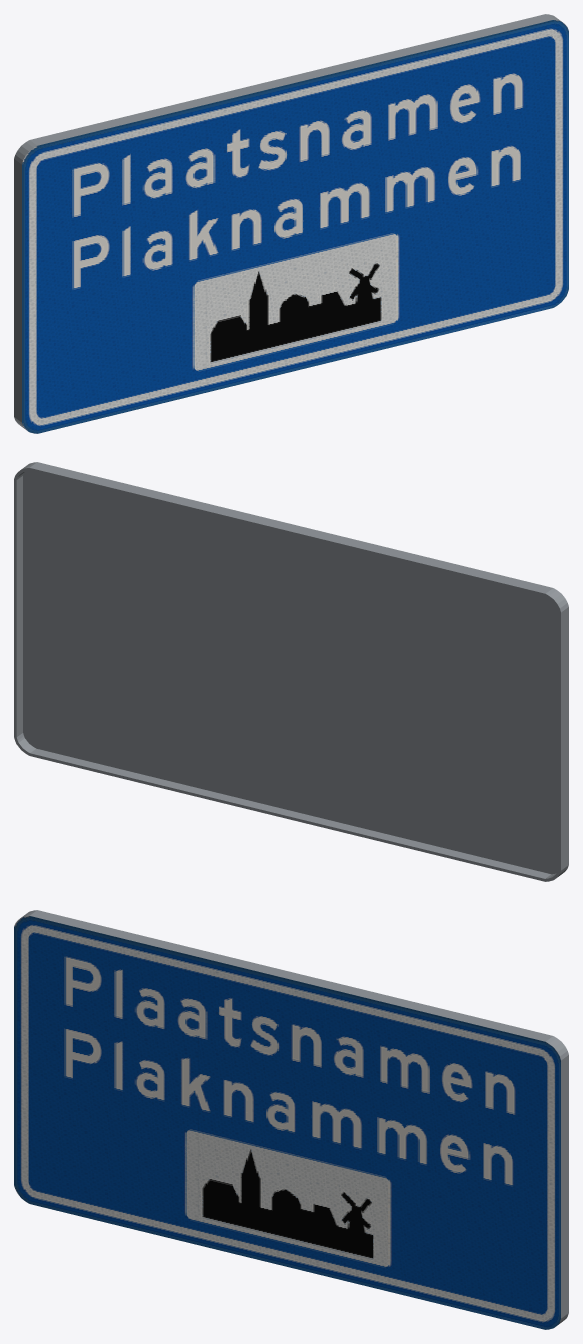
3 renders of one model, top to bottom at view 1: azimuth 30°, elevation 25°; view 2: azimuth 150°, elevation 25°; view 3: azimuth 330°, elevation 25°, orthographic.
Parts seen in each view (by area): view 1: cat_4b2ae3885f97d0f1; view 2: cat_4b2ae3885f97d0f1; view 3: cat_4b2ae3885f97d0f1.
Boxes of the visible parts, x1,y1,x2,y2 form: cat_4b2ae3885f97d0f1: [14, 14, 568, 433]; cat_4b2ae3885f97d0f1: [14, 462, 568, 881]; cat_4b2ae3885f97d0f1: [14, 910, 568, 1329].
Bounding box in the file's own units: 0.6 × 0.015 × 0.302.
2 materials, 1 textured.
